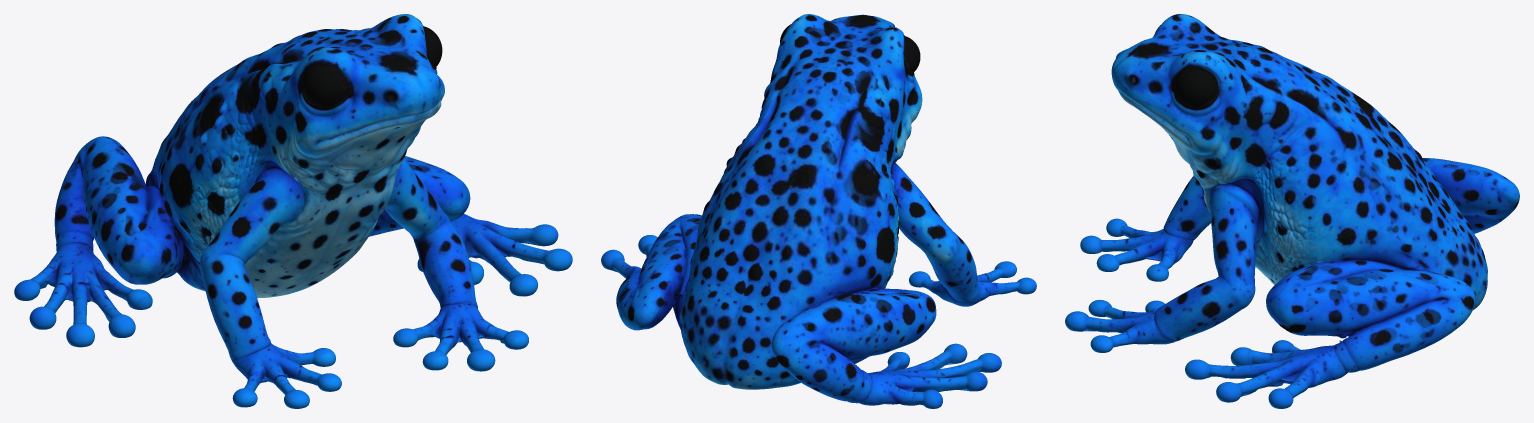
The model's file is frog-realistic.glb.
3 renders of one model, left to right at view 1: azimuth 30°, elevation 25°; view 2: azimuth 150°, elevation 25°; view 3: azimuth 270°, elevation 25°, orthographic. The views are drawn at different scales.
Parts seen in each view (by area): view 1: frog; view 2: frog; view 3: frog.
Boxes of the visible parts, x1,y1,x2,y2 form: frog: (14,14,572,408); frog: (601,14,1036,408); frog: (1065,14,1519,408).
Bounding box in the file's own units: 0.05 × 0.0297 × 0.0449.
1 material, 1 textured.
